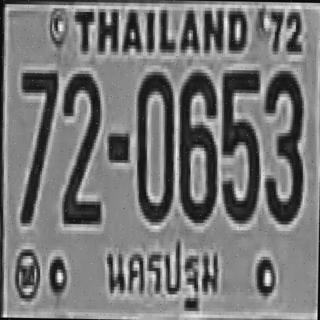N00: (134, 68, 173, 219)
N02: (61, 70, 102, 221)
N03: (262, 67, 302, 221)
N05: (218, 66, 258, 220)
N06: (176, 69, 217, 220)
N07: (18, 68, 57, 222)
P28: (100, 236, 227, 318)
